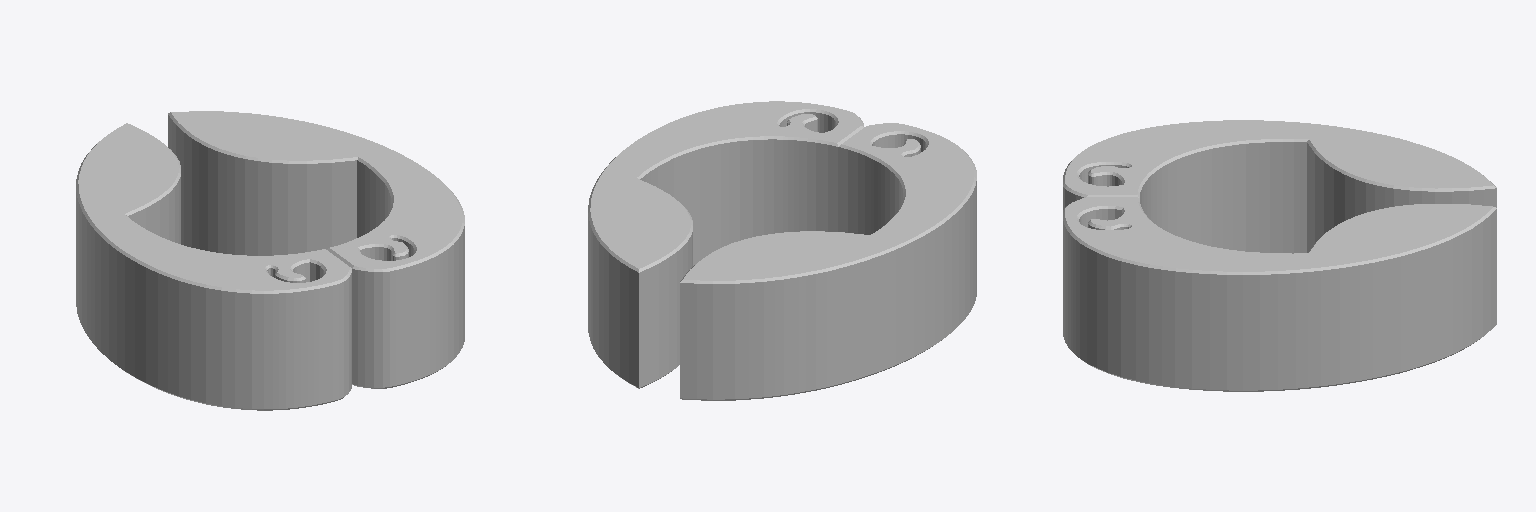
File: seed.obj
3 views of the same model, side by side, from view 1: azimuth 30°, elevation 25°; view 2: azimuth 150°, elevation 25°; view 3: azimuth 270°, elevation 25° (orthographic).
Parts seen in each view (by area): view 1: Seed leftSide, rightSide Seed; view 2: Seed leftSide, rightSide Seed; view 3: rightSide Seed, Seed leftSide.
Boxes of the visible parts, x1=… form: Seed leftSide: x1=76, y1=123, x2=351, y2=410; rightSide Seed: x1=168, y1=111, x2=464, y2=388; Seed leftSide: x1=680, y1=123, x2=976, y2=400; rightSide Seed: x1=588, y1=101, x2=863, y2=388; rightSide Seed: x1=1063, y1=197, x2=1496, y2=391; Seed leftSide: x1=1063, y1=120, x2=1496, y2=253.
Bounding box in the file's own units: 32.23 × 11.72 × 38.51.